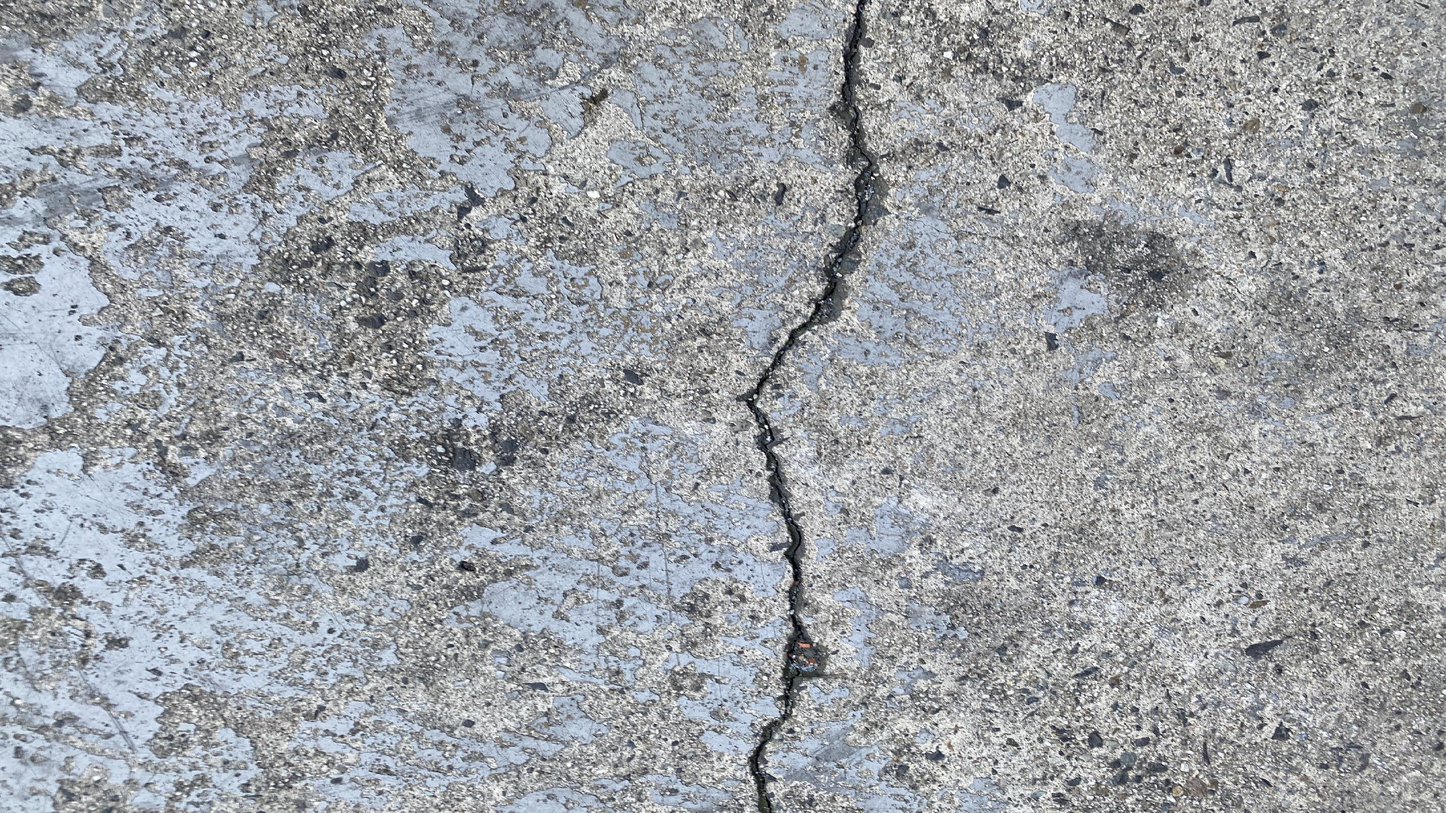crack: (748, 0, 870, 811)
